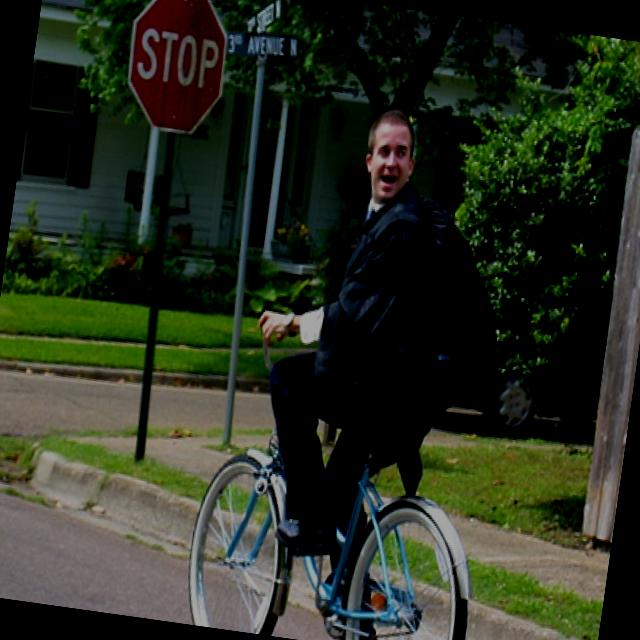Vehicle: (428, 356, 544, 438)
